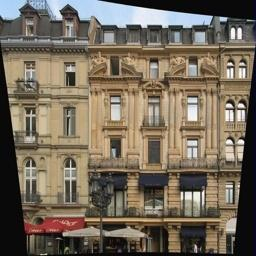building: (85, 7, 222, 255)
